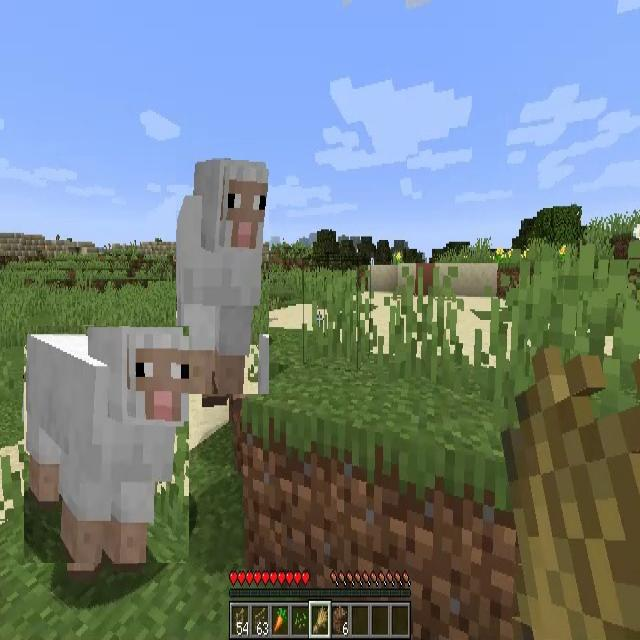sheep: (24, 326, 189, 563), (176, 160, 269, 394)
